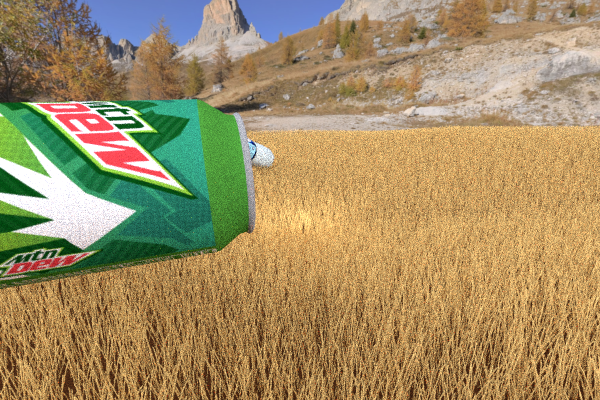Plastic Bottle: (0, 99, 255, 310), (195, 124, 274, 169)
